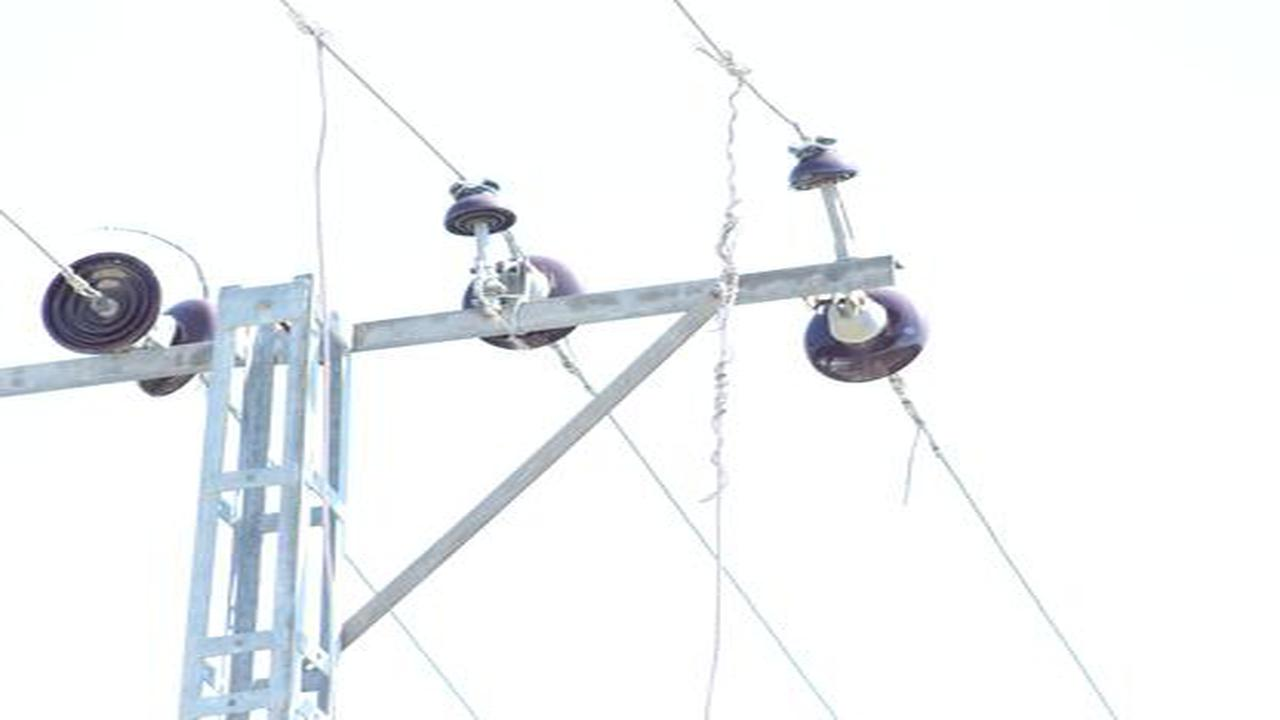insulator_disc: (37, 249, 165, 358), (802, 290, 932, 386)
insulator_pin: (784, 127, 861, 198), (441, 173, 519, 235)
